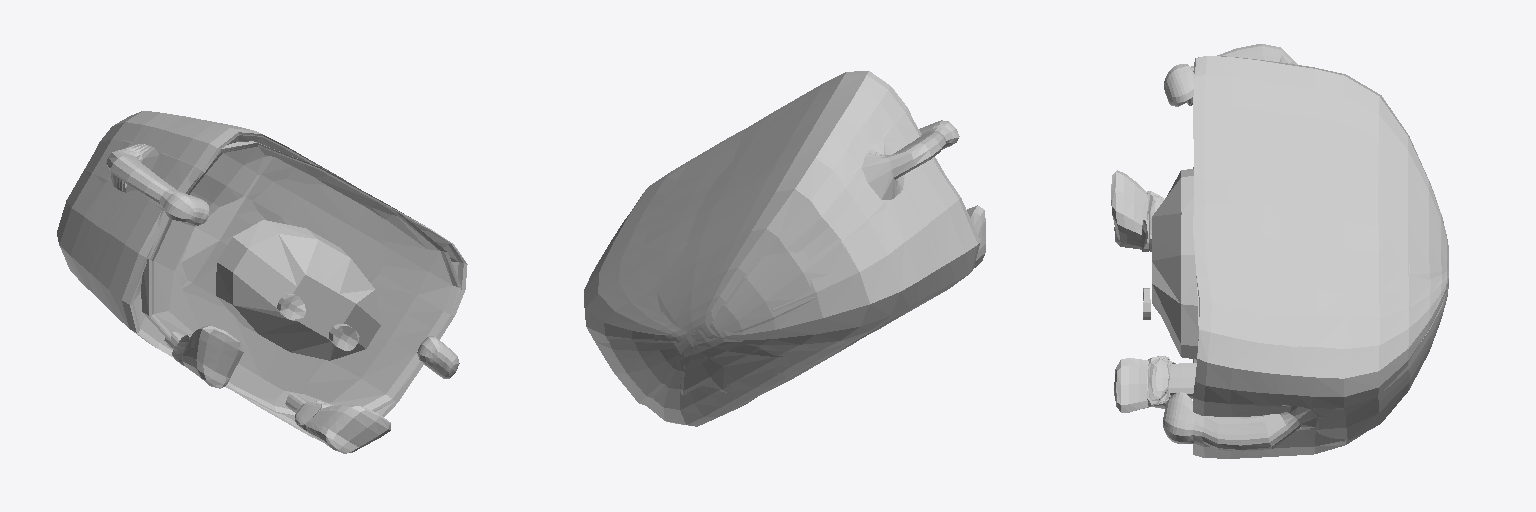
File: Pal_000007.obj
3 renders of one model, left to right at view 1: azimuth 30°, elevation 25°; view 2: azimuth 150°, elevation 25°; view 3: azimuth 270°, elevation 25°, orthographic.
Parts seen in each view (by area): view 1: Cuerpo_de_aguacate_3.001_Cube.002, Hueso_Cubo.003, Ojos_Cubo.002; view 2: Cuerpo_de_aguacate_3.001_Cube.002; view 3: Cuerpo_de_aguacate_3.001_Cube.002, Hueso_Cubo.003.
Boxes of the visible parts, <box> form: Cuerpo_de_aguacate_3.001_Cube.002: <box>57,111,467,453</box>; Hueso_Cubo.003: <box>216,220,380,360</box>; Ojos_Cubo.002: <box>277,293,359,350</box>; Cuerpo_de_aguacate_3.001_Cube.002: <box>584,71,985,426</box>; Cuerpo_de_aguacate_3.001_Cube.002: <box>1111,44,1448,458</box>; Hueso_Cubo.003: <box>1152,169,1198,359</box>.
Bounding box in the file's own units: 1.18 × 1.11 × 1.01.